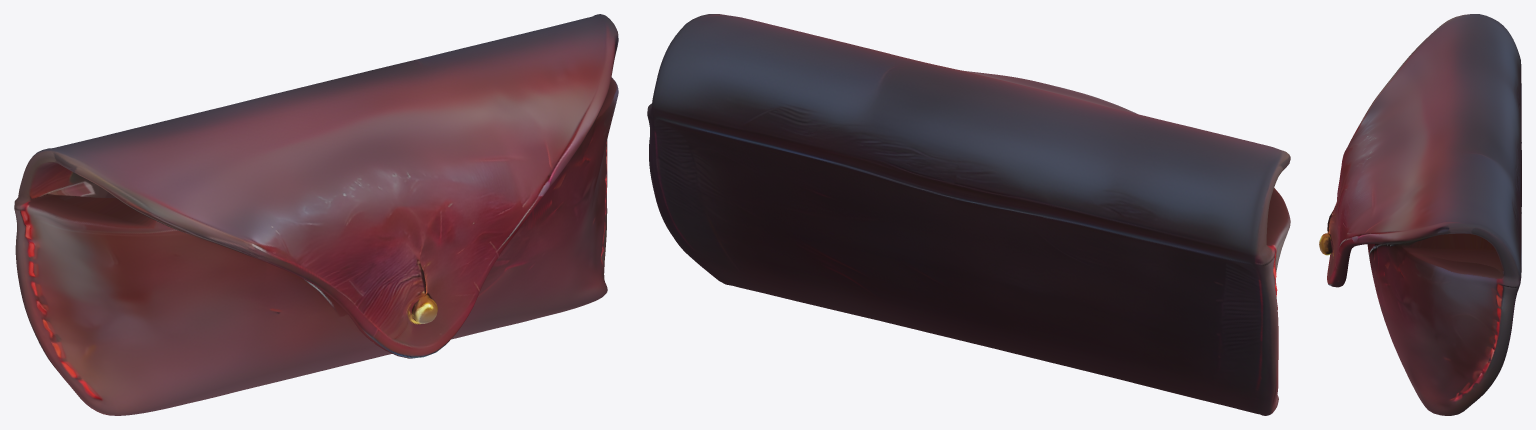
3 renders of one model, left to right at view 1: azimuth 30°, elevation 25°; view 2: azimuth 150°, elevation 25°; view 3: azimuth 270°, elevation 25°, orthographic. The views are drawn at different scales.
Parts seen in each view (by area): view 1: model; view 2: model; view 3: model.
Part boxes in pixels (x1,y1,x2,y2): model: [14, 14, 618, 415]; model: [647, 14, 1290, 415]; model: [1319, 14, 1521, 415].
Size of the model in its own units: 1.81 by 0.7535 by 0.6871.
1 material, 1 textured.
